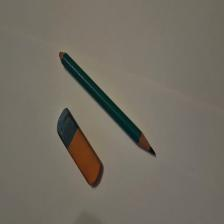eraser: (58, 108, 105, 188)
pencil: (60, 52, 157, 157)
